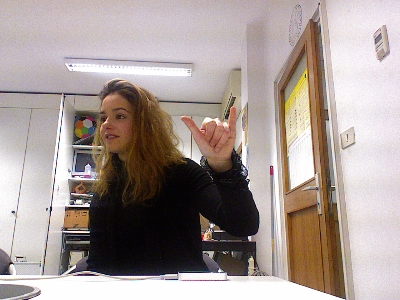六六六: (178, 105, 237, 160)
